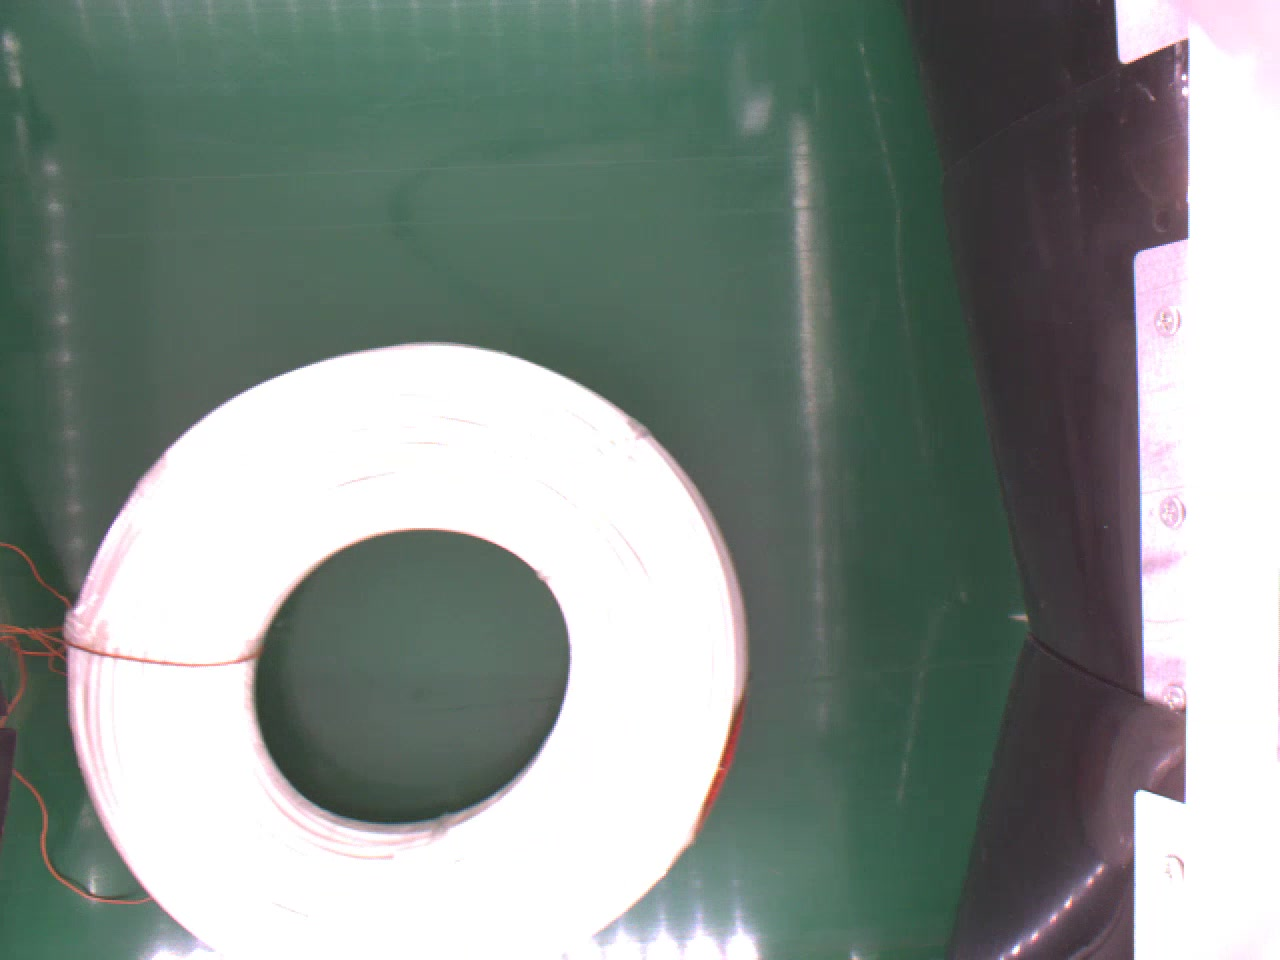white: (62, 337, 752, 960)
